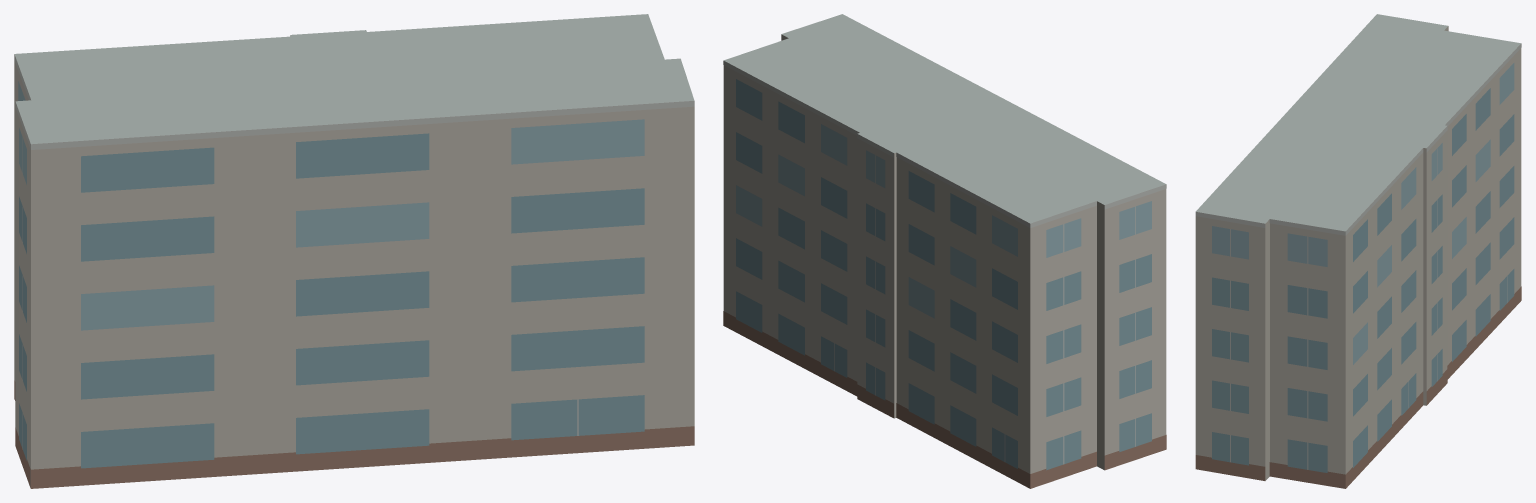
The model's file is survey-upis-32930245.glb.
The picture shows the model from 3 angles, left to right: view 1: azimuth 30°, elevation 25°; view 2: azimuth 150°, elevation 25°; view 3: azimuth 270°, elevation 25°; orthographic projection. The views are drawn at different scales.
Parts seen in each view (by area): view 1: survey-upis-32930245.tmp; view 2: survey-upis-32930245.tmp; view 3: survey-upis-32930245.tmp.
Part boxes in pixels (x1,y1,x2,y2): survey-upis-32930245.tmp: (14,14,694,488); survey-upis-32930245.tmp: (723,14,1166,488); survey-upis-32930245.tmp: (1195,14,1521,488).
Bounding box in the file's own units: 25.91 × 14.3 × 16.41.
